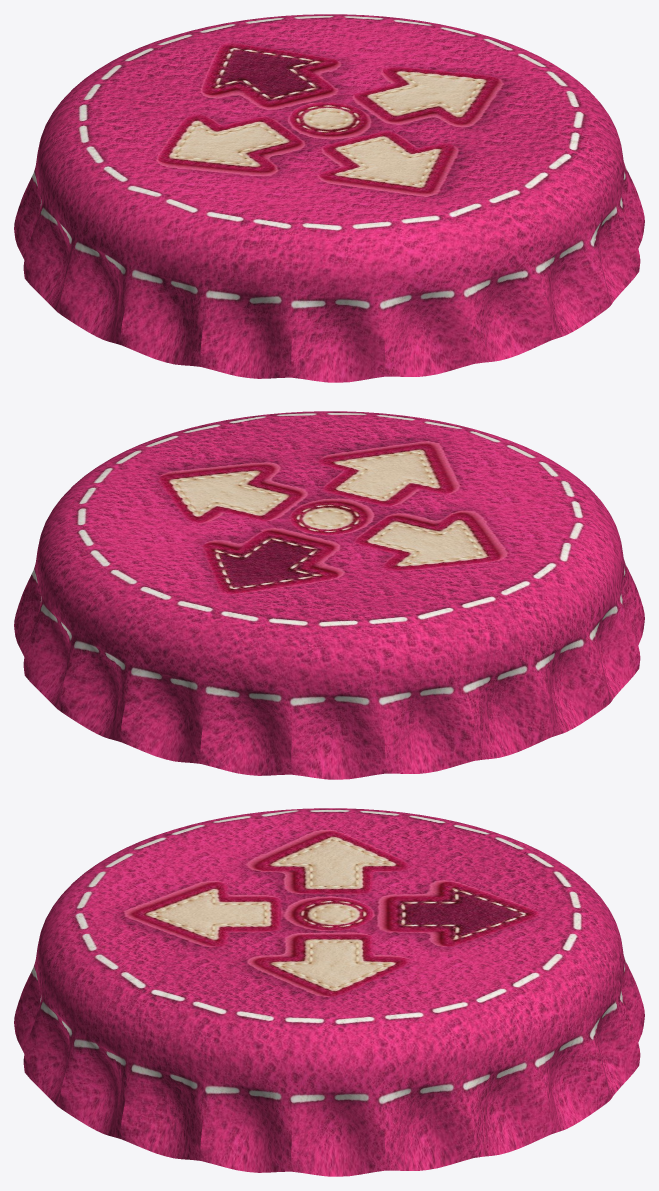
File: strzalki.glb
3 views of the same model, one above another, from view 1: azimuth 30°, elevation 25°; view 2: azimuth 150°, elevation 25°; view 3: azimuth 270°, elevation 25° (orthographic).
Parts seen in each view (by area): view 1: Kapsel_LOD0_strzalki; view 2: Kapsel_LOD0_strzalki; view 3: Kapsel_LOD0_strzalki.
Boxes of the visible parts, x1,y1,x2,y2 form: Kapsel_LOD0_strzalki: (14, 14, 644, 382); Kapsel_LOD0_strzalki: (14, 411, 644, 779); Kapsel_LOD0_strzalki: (14, 808, 644, 1176).
Size of the model in its own units: 29.9 by 7 by 29.92.
Materials: 2 (2 with a texture image).
